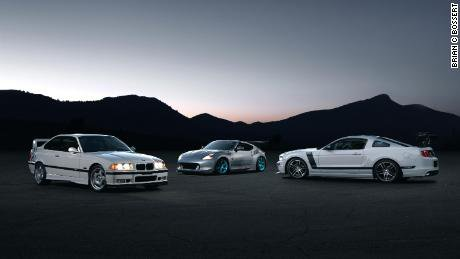car: (27, 130, 171, 192), (278, 133, 440, 186), (178, 138, 266, 172)
